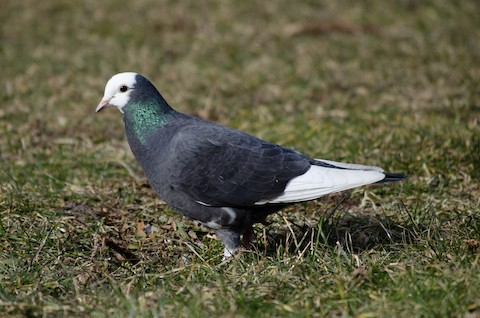pigeon: (92, 67, 413, 274)
